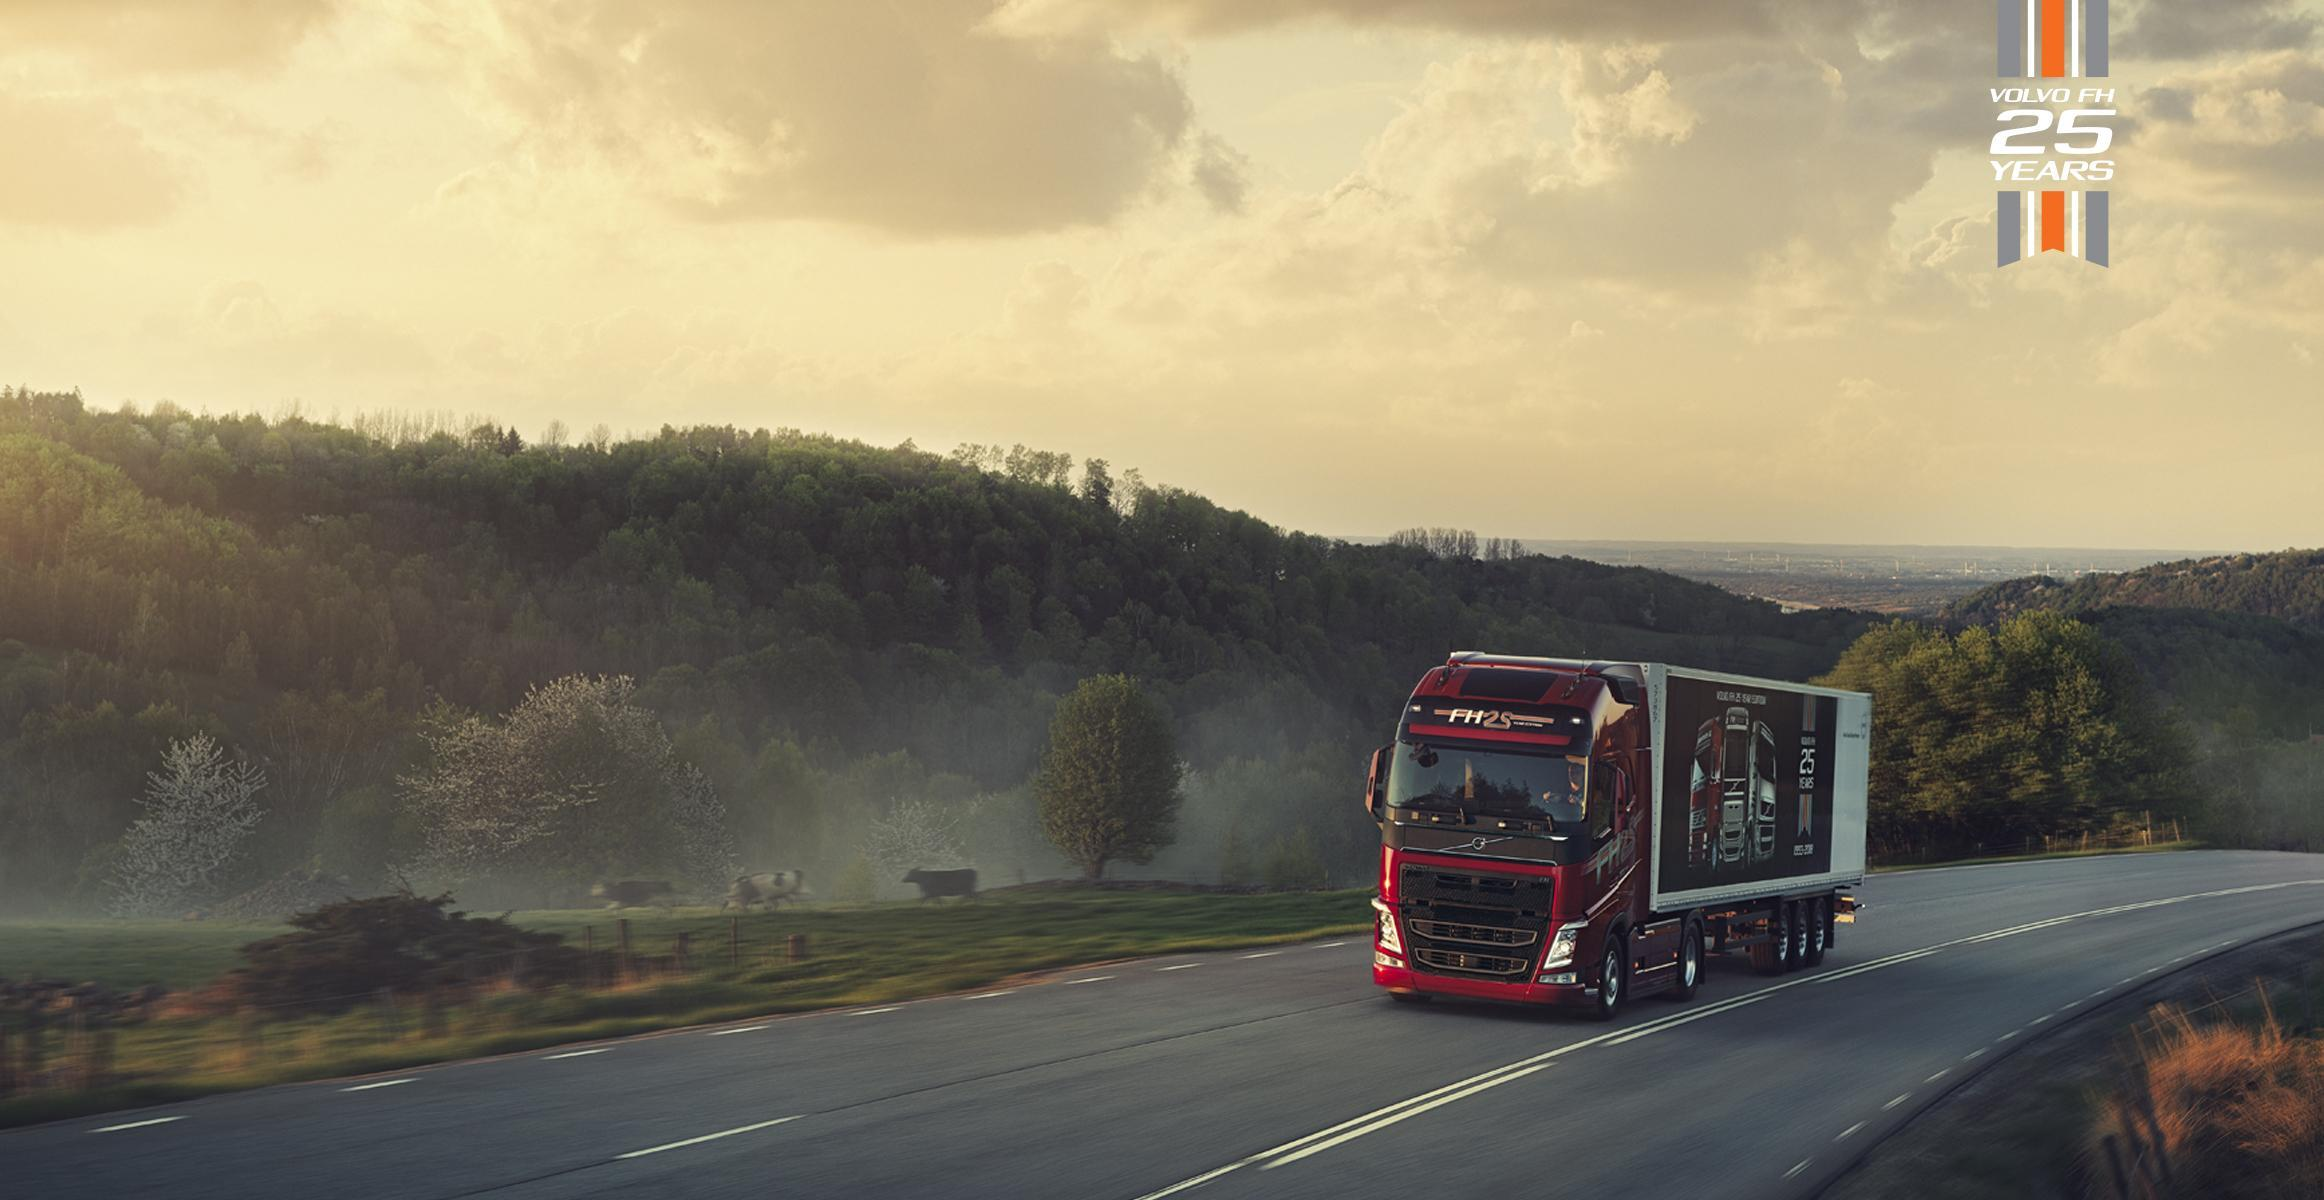truck: (1333, 634, 1920, 1087)
